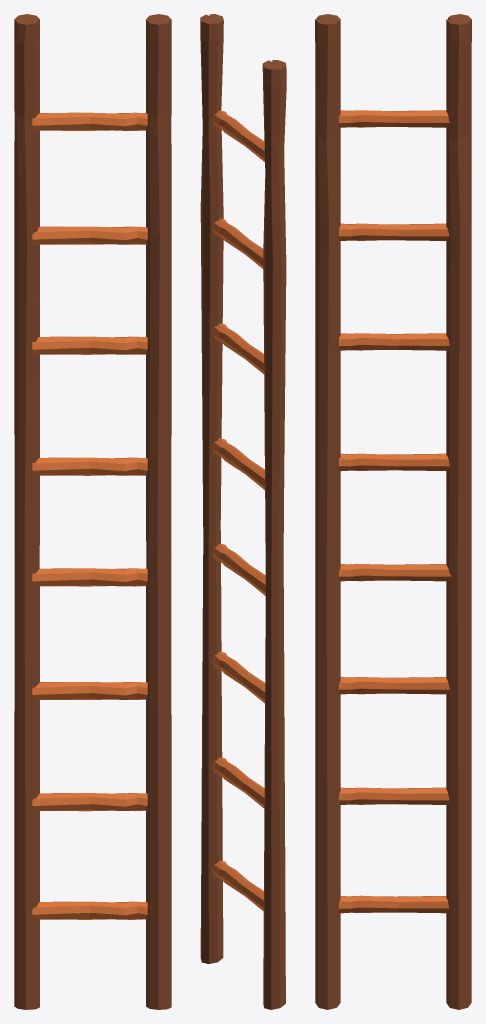
File: Ladder 1.fbx
3 renders of one model, left to right at view 1: azimuth 90°, elevation 25°; view 2: azimuth 210°, elevation 25°; view 3: azimuth 270°, elevation 25°, orthographic. The views are drawn at different scales.
Parts seen in each view (by area): view 1: Ladder 1; view 2: Ladder 1; view 3: Ladder 1.
Part boxes in pixels (x1,y1,x2,y2): Ladder 1: (14, 14, 171, 1009); Ladder 1: (200, 14, 286, 1009); Ladder 1: (315, 14, 471, 1009).
Size of the model in its own units: 7.48 by 316 by 45.62.
